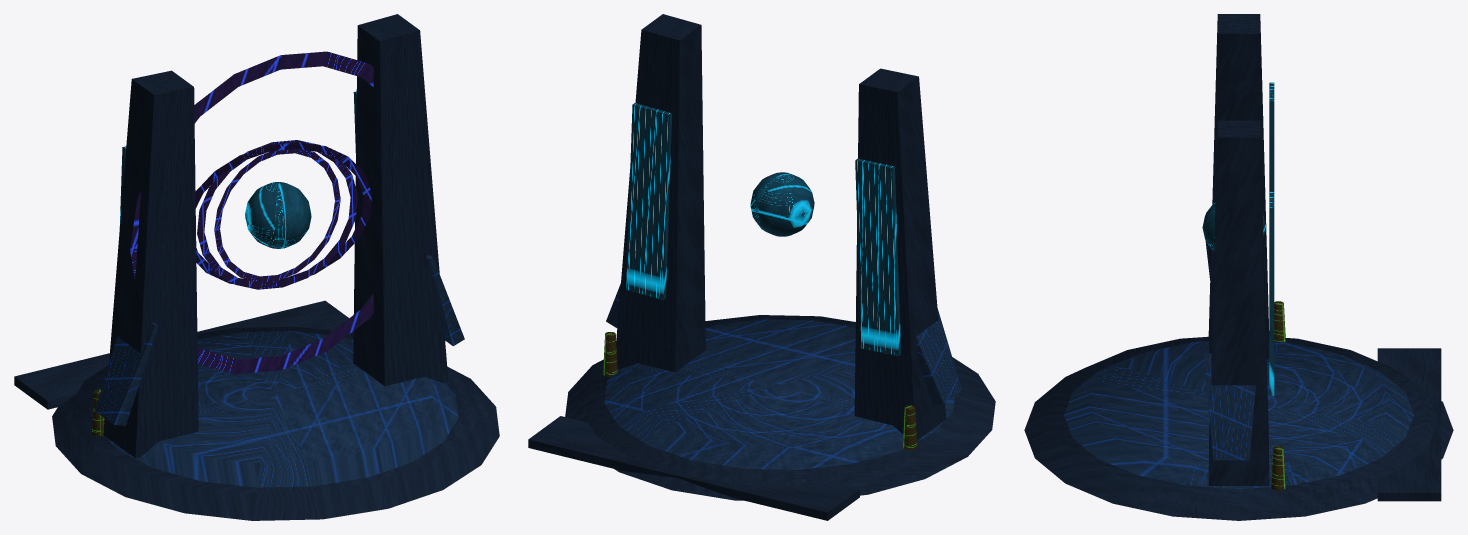
File: command-horizon-arrival-gate-lod0-textured.glb
3 renders of one model, left to right at view 1: azimuth 30°, elevation 25°; view 2: azimuth 150°, elevation 25°; view 3: azimuth 270°, elevation 25°, orthographic. The views are drawn at different scales.
Visible parts, largest first — view 1: arrival-tier, arrival-pylon-1, arrival-pylon--1, arrival-plinth, arrival-arch, arrival-front-step, arrival-core, arrival-fin--1, arrival-orbit-1, arrival-orbit-2, arrival-orbit-0, arrival-fin-1; view 2: arrival-tier, arrival-pylon-1, arrival-pylon--1, arrival-plinth, arrival-panel--1, arrival-panel-1, arrival-front-step, arrival-core, arrival-fin--1, arrival-beacon--1, arrival-beacon-1; view 3: arrival-tier, arrival-plinth, arrival-pylon-1, arrival-pylon--1, arrival-front-step, arrival-fin-1, arrival-panel-1, arrival-panel--1, arrival-beacon-1, arrival-core.
Boxes of the visible parts, x1=… form: arrival-tier: x1=93, y1=331, x2=458, y2=487; arrival-pylon-1: x1=353, y1=14, x2=448, y2=385; arrival-pylon--1: x1=103, y1=70, x2=198, y2=458; arrival-plinth: x1=52, y1=326, x2=499, y2=520; arrival-arch: x1=130, y1=51, x2=373, y2=374; arrival-front-step: x1=14, y1=300, x2=353, y2=409; arrival-core: x1=245, y1=182, x2=311, y2=248; arrival-fin--1: x1=95, y1=322, x2=158, y2=426; arrival-orbit-1: x1=197, y1=140, x2=357, y2=289; arrival-orbit-2: x1=195, y1=142, x2=371, y2=283; arrival-orbit-0: x1=214, y1=149, x2=340, y2=282; arrival-fin-1: x1=426, y1=255, x2=464, y2=346; arrival-tier: x1=604, y1=319, x2=954, y2=469; arrival-pylon-1: x1=616, y1=14, x2=705, y2=372; arrival-pylon--1: x1=854, y1=68, x2=946, y2=440; arrival-plinth: x1=565, y1=315, x2=995, y2=500; arrival-panel--1: x1=855, y1=158, x2=900, y2=355; arrival-panel-1: x1=626, y1=103, x2=672, y2=299; arrival-front-step: x1=528, y1=416, x2=859, y2=520; arrival-core: x1=750, y1=172, x2=814, y2=236; arrival-fin--1: x1=916, y1=309, x2=961, y2=405; arrival-beacon--1: x1=902, y1=405, x2=917, y2=449; arrival-beacon-1: x1=603, y1=332, x2=617, y2=376; arrival-tier: x1=1064, y1=341, x2=1413, y2=488; arrival-plinth: x1=1024, y1=336, x2=1453, y2=520; arrival-pylon-1: x1=1208, y1=120, x2=1269, y2=485; arrival-pylon--1: x1=1208, y1=14, x2=1269, y2=359; arrival-front-step: x1=1377, y1=348, x2=1441, y2=501; arrival-fin-1: x1=1204, y1=353, x2=1255, y2=460; arrival-panel-1: x1=1269, y1=191, x2=1274, y2=395; arrival-panel--1: x1=1269, y1=82, x2=1274, y2=191; arrival-beacon-1: x1=1271, y1=446, x2=1285, y2=490; arrival-core: x1=1202, y1=202, x2=1266, y2=251.
Bounding box in the file's own units: 5.64 × 5.18 × 5.64.
5 materials, 5 textured.
